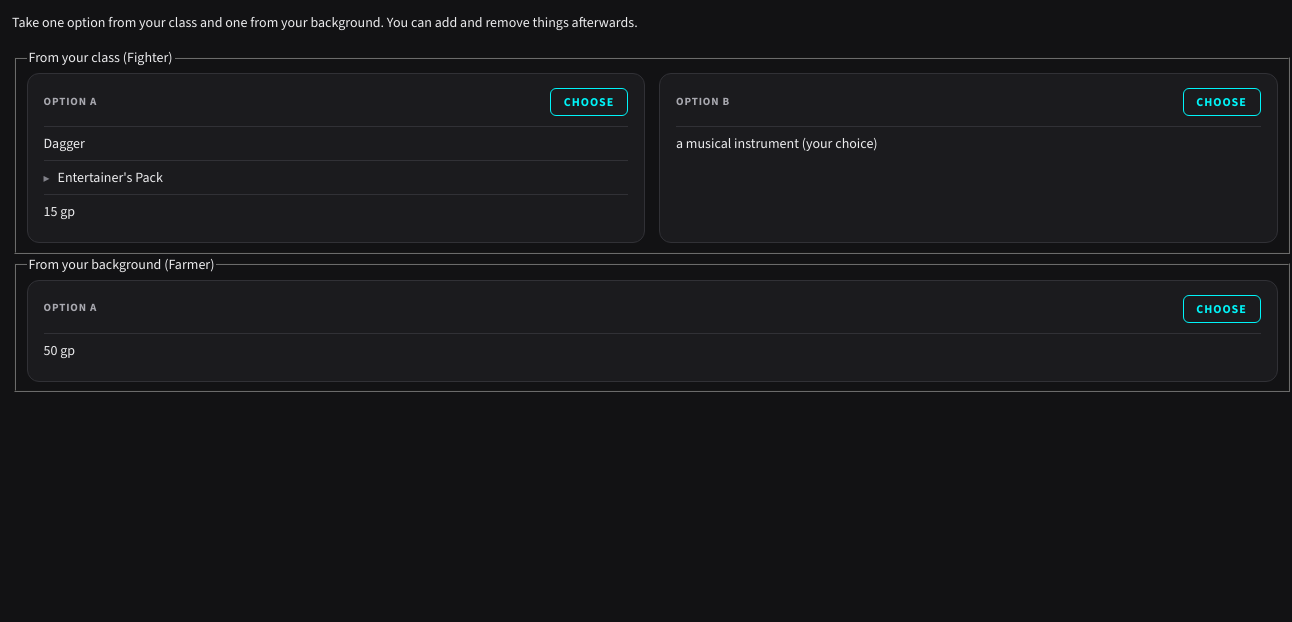
Test: StartingEquipmentPicker › shows the start table with quantities and the money in its header once both options are taken
Expected: the text "You will start with" is not shown
What coordinates should you click on to do the following:
click the button with aria-label "Choose class option A"
I would click on:
 (589, 102)
Its box is [550,88,628,116].
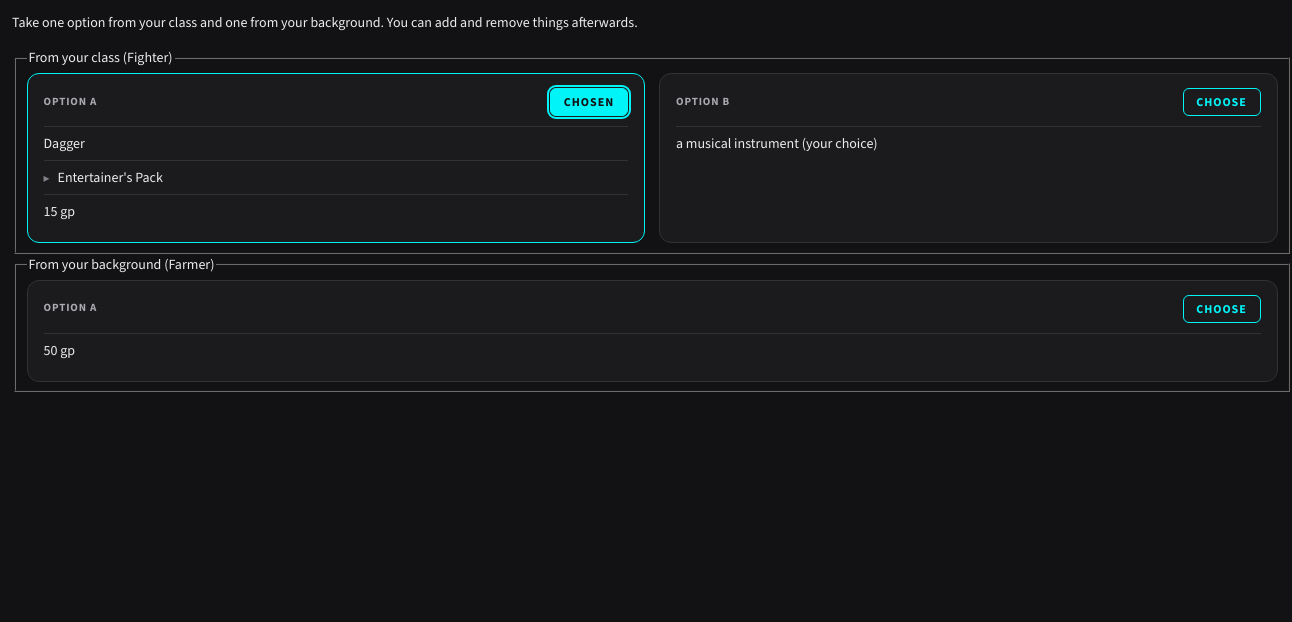
What coordinates should you click on to do the following:
click the button with aria-label "Choose background option A"
I would click on:
 (1222, 308)
Its box is [1182,294,1260,322].
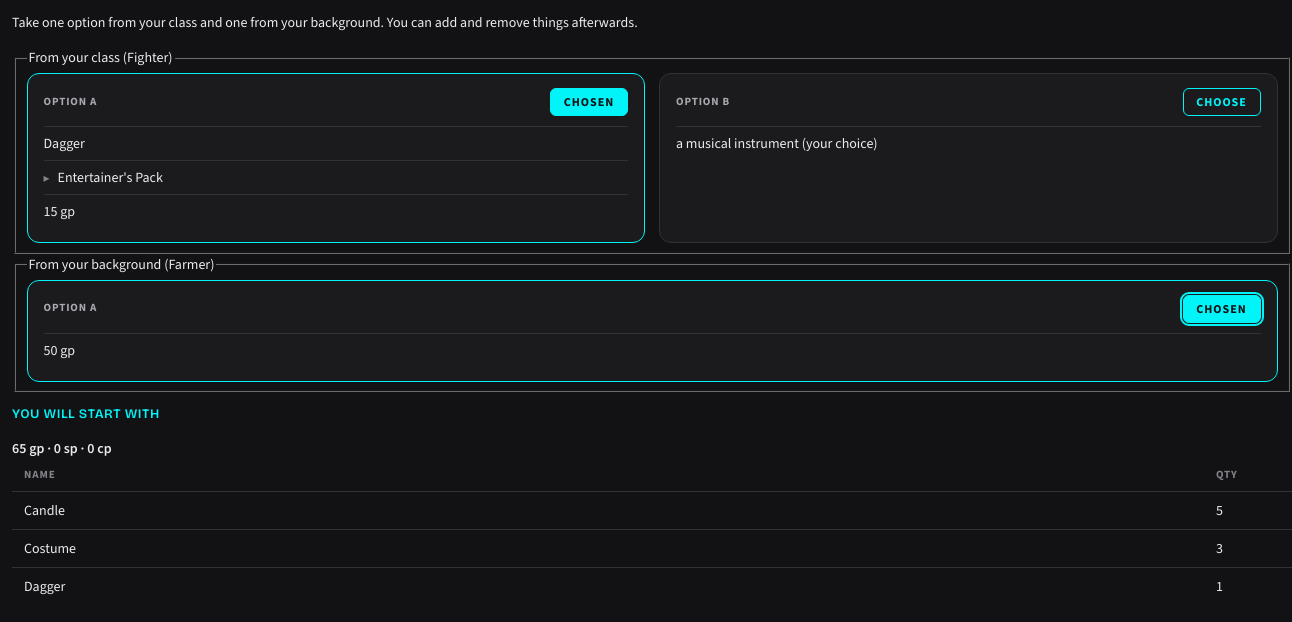
Result: the heading "You will start with" is shown at [12,406,160,422]
Result: the text "65 gp · 0 sp · 0 cp" is shown at [12,439,112,458]
Result: the column headings read "Name", "Qty", in this order at [12,459,1204,492]; [1204,459,1291,492]
